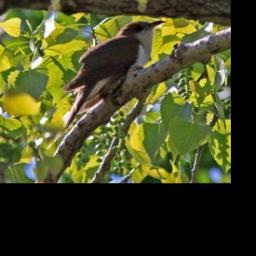Cuckoo: (59, 18, 166, 142)
